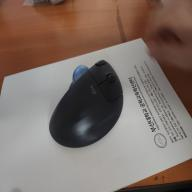mouse: (48, 57, 125, 149)
